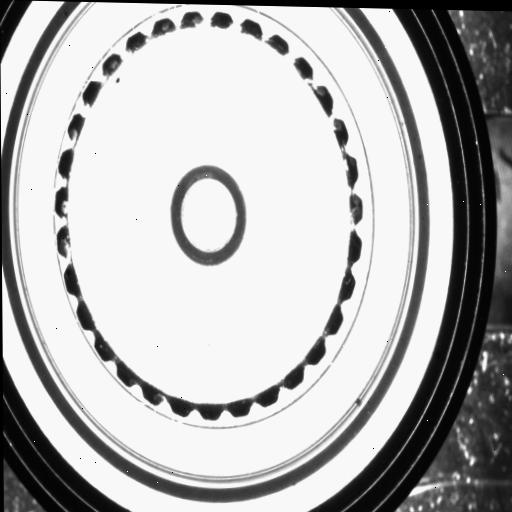gear: (49, 1, 370, 430)
